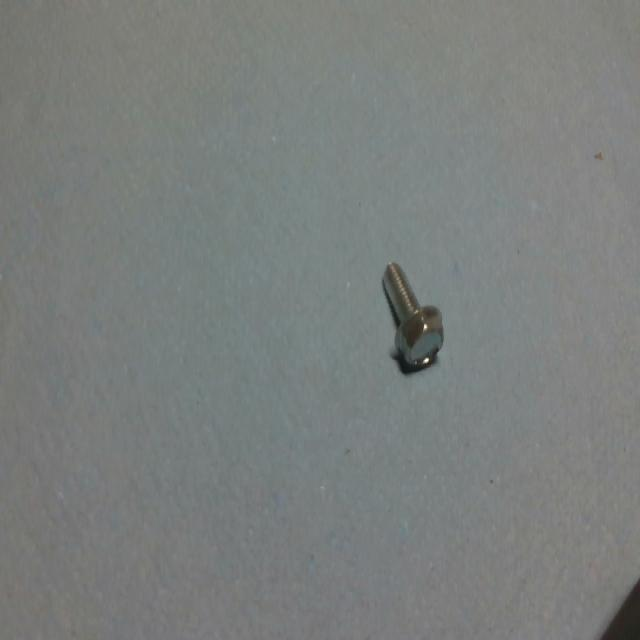Bolt: (376, 259, 446, 377)
